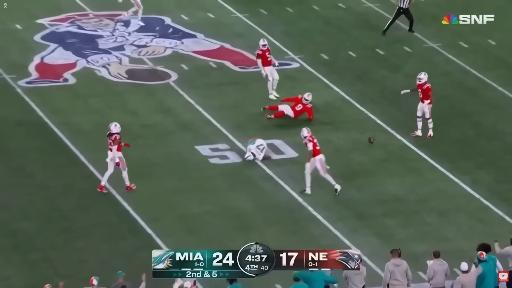Helmet: (109, 123, 121, 133), (301, 127, 311, 139), (417, 72, 427, 83), (303, 93, 312, 103), (245, 152, 255, 160), (259, 39, 267, 48)
Jersey: (281, 96, 313, 120), (247, 139, 267, 160), (304, 135, 321, 157), (417, 82, 432, 104), (256, 47, 272, 67), (107, 133, 122, 152)
Player: (301, 128, 341, 194), (98, 123, 135, 192), (402, 72, 433, 138), (256, 39, 279, 99), (262, 93, 313, 120), (245, 139, 269, 160), (126, 0, 144, 25)
